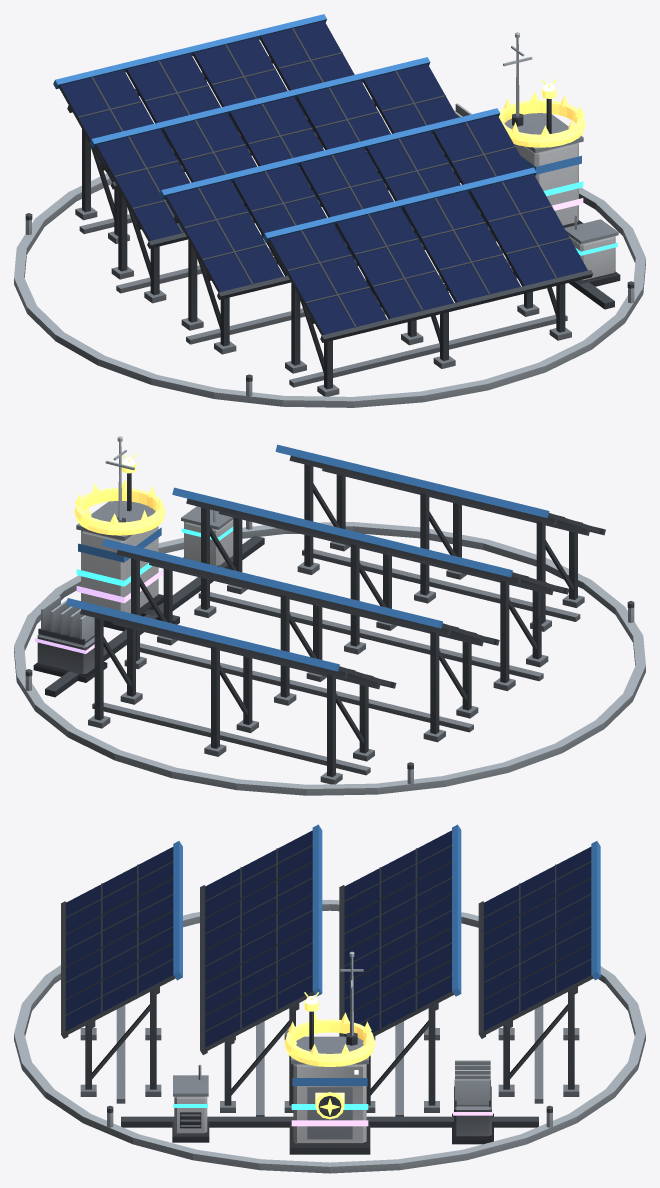
The model's file is solar_array_l.glb.
3 renders of one model, top to bottom at view 1: azimuth 30°, elevation 25°; view 2: azimuth 150°, elevation 25°; view 3: azimuth 270°, elevation 25°, orthographic.
Visible parts, largest first — view 1: Base, L2, L5, L3; view 2: Base, L2, L4, L5, L3; view 3: Base, L2, L4, L5, L3.
Part boxes in pixels (x1=…): Base: x1=53, y1=14, x2=614, y2=396; L2: x1=14, y1=32, x2=645, y2=407; L5: x1=499, y1=79, x2=585, y2=147; L3: x1=543, y1=181, x2=620, y2=286; Base: x1=45, y1=444, x2=605, y2=784; L2: x1=14, y1=436, x2=645, y2=795; L4: x1=33, y1=569, x2=162, y2=682; L5: x1=74, y1=453, x2=165, y2=535; L3: x1=76, y1=506, x2=233, y2=586; Base: x1=61, y1=824, x2=600, y2=1154; L2: x1=14, y1=899, x2=645, y2=1173; L4: x1=291, y1=1060, x2=493, y2=1144; L5: x1=284, y1=992, x2=375, y2=1119; L3: x1=172, y1=1064, x2=368, y2=1142.
Size of the model in its own units: 8.62 by 2.79 by 8.62.
